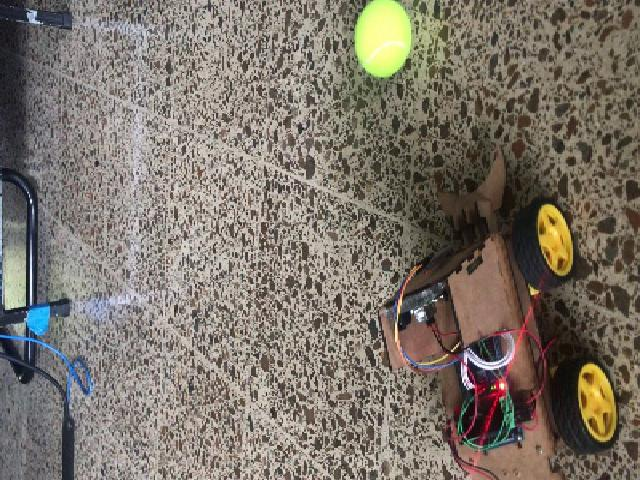Ball: (354, 0, 413, 77)
Robot: (378, 145, 619, 475)
